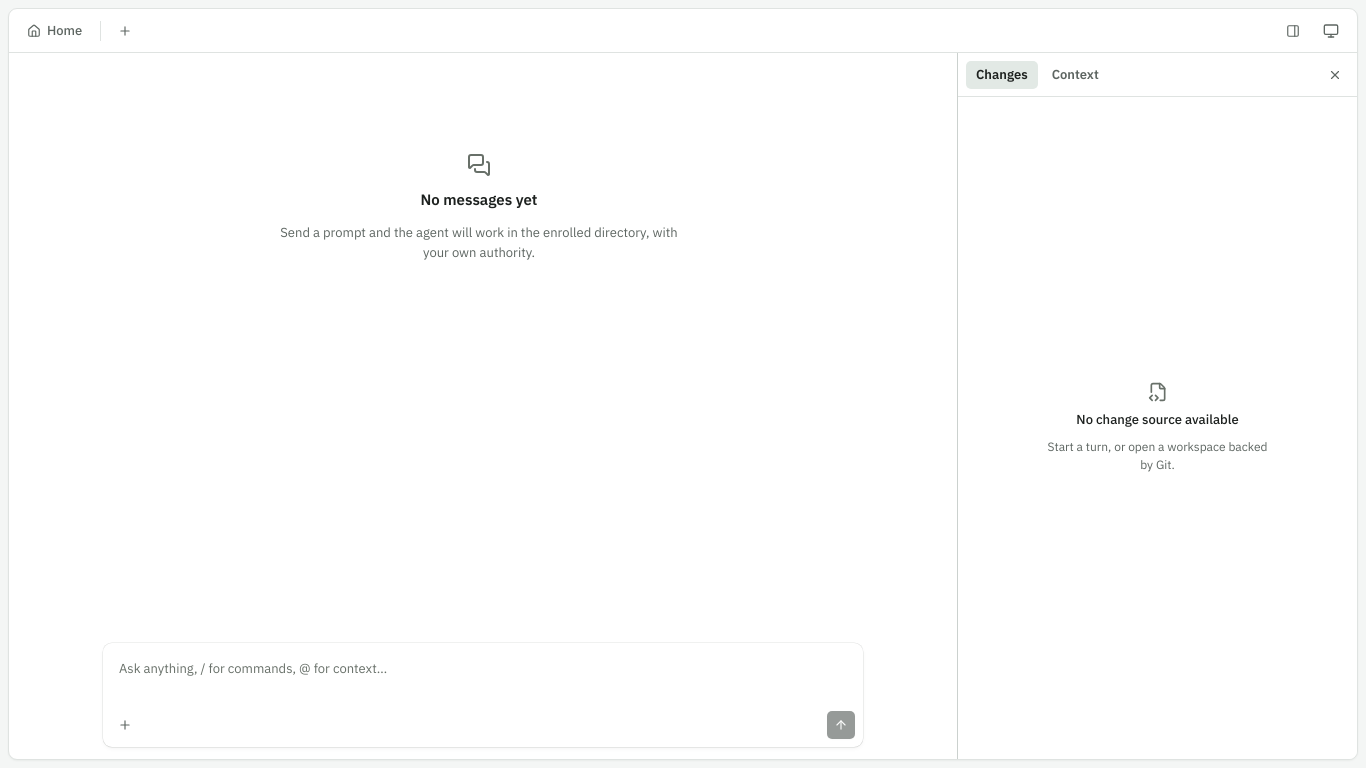
Test case: SessionView › shows unknown cost as a dash and never as zero dollars
Click the tab "Context" at [1075, 74], box x1=1042 y1=60 x2=1109 y2=88
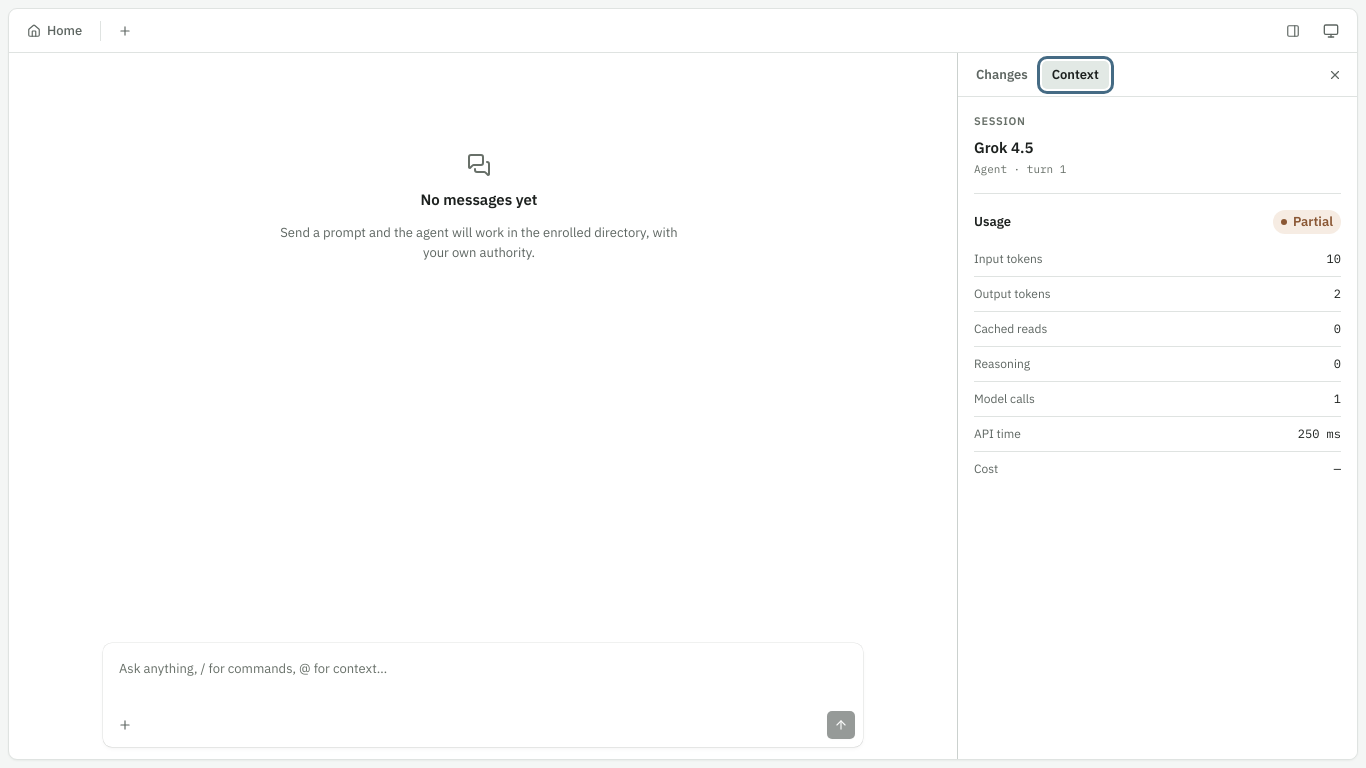
Check: the text "Partial" is shown, box x1=1273 y1=210 x2=1341 y2=234
